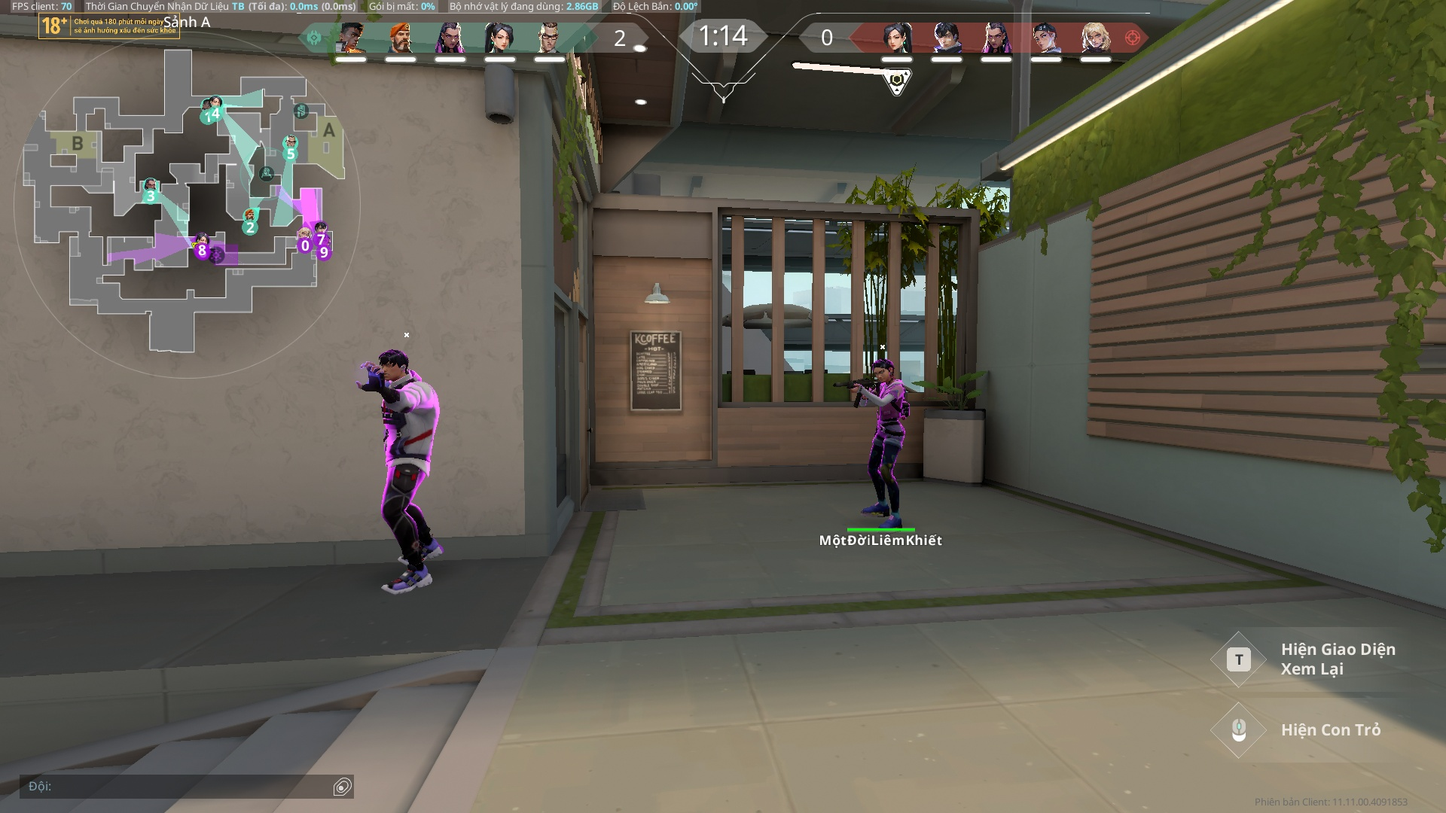body: (377, 377, 439, 467), (868, 379, 911, 437)
head: (374, 346, 411, 379), (870, 359, 897, 385)
